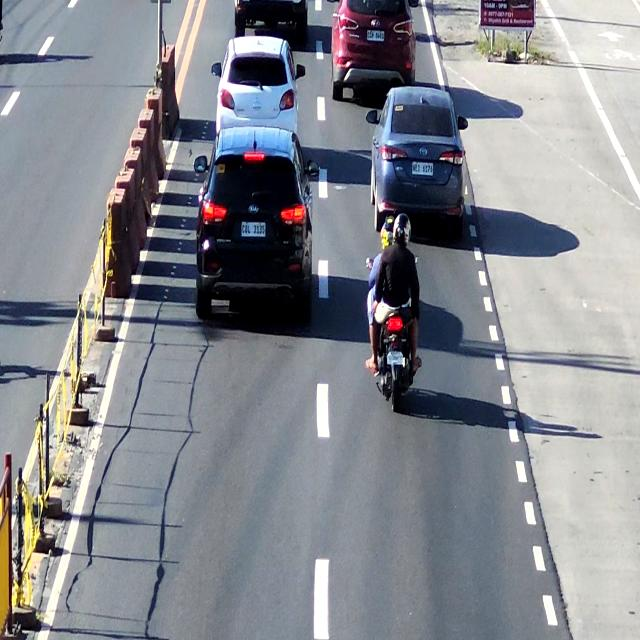Car: (199, 128, 311, 322), (369, 85, 466, 236), (332, 0, 415, 95), (215, 38, 299, 129)
License-Plate: (230, 0, 312, 38), (238, 220, 268, 242), (409, 160, 434, 178), (384, 348, 406, 366), (368, 27, 386, 44)
Motorcycle: (371, 212, 417, 400)
